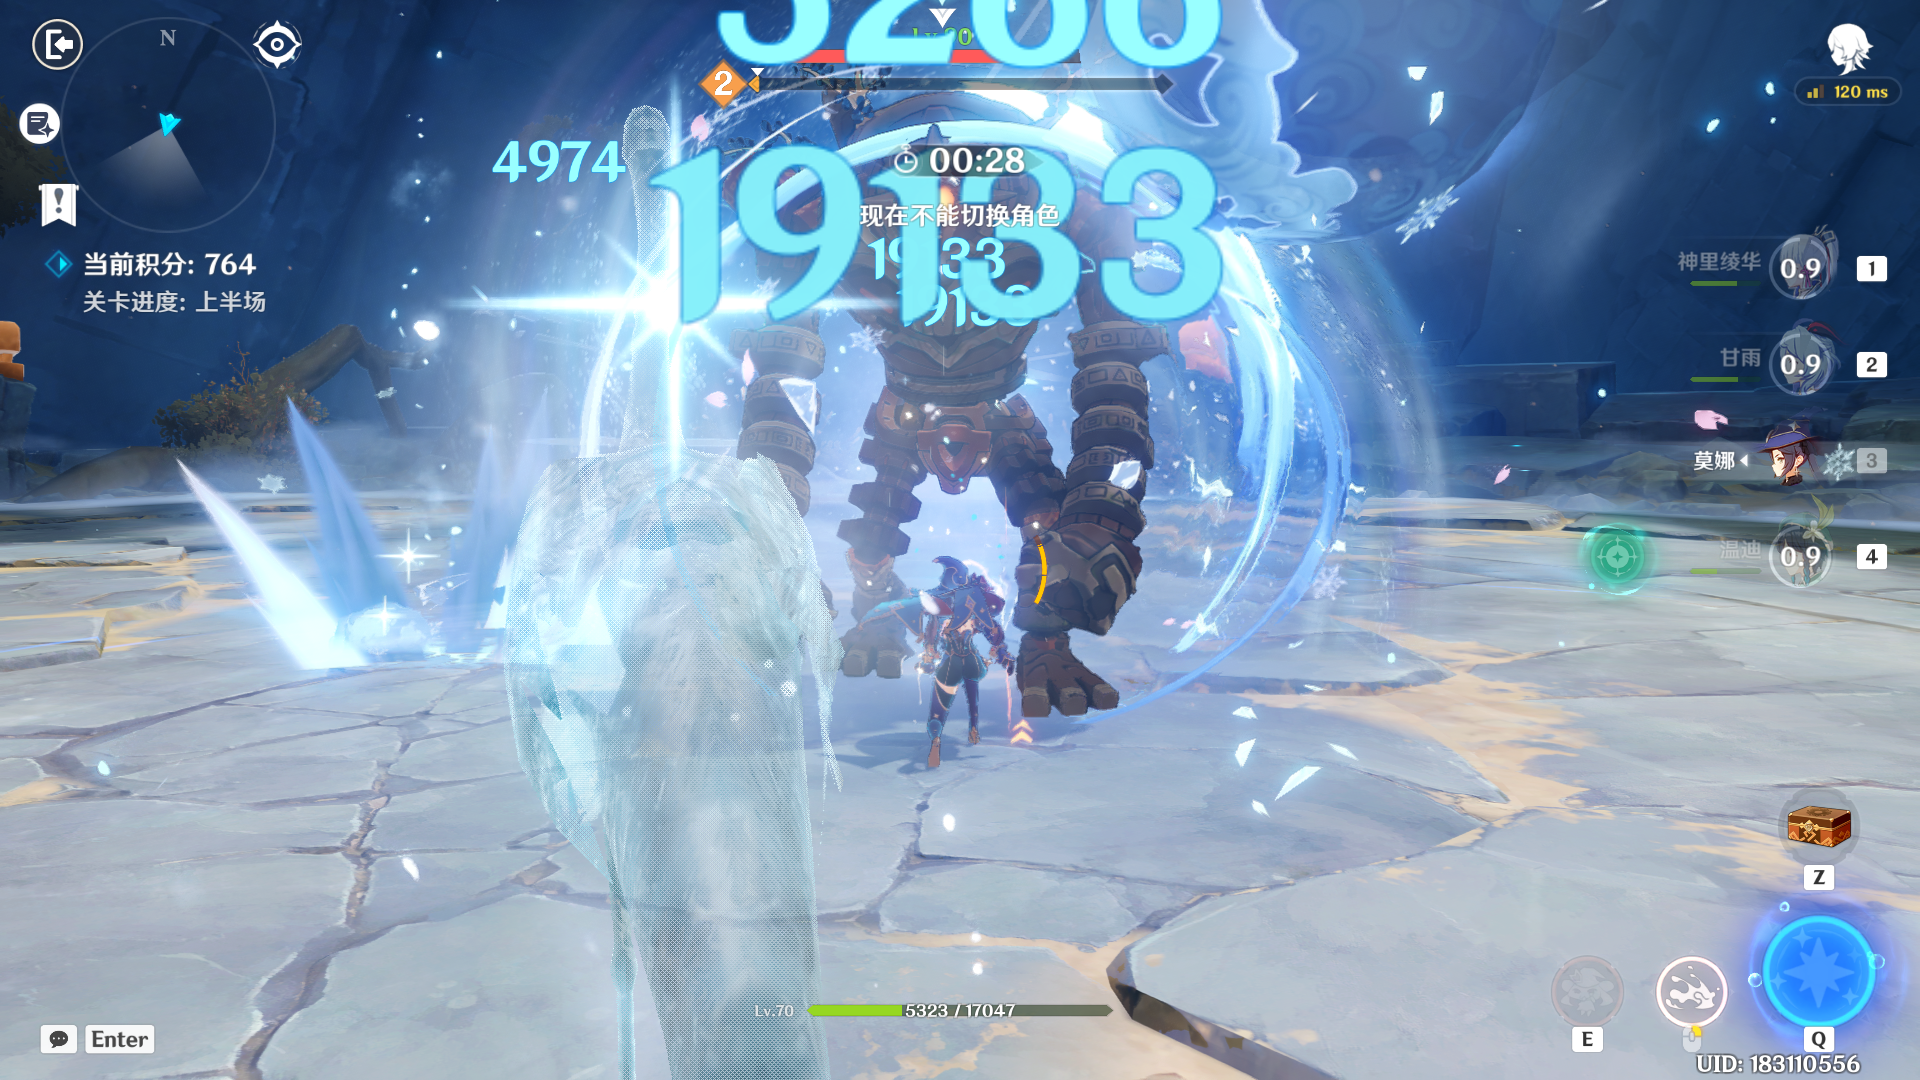character: (873, 502, 1040, 794)
